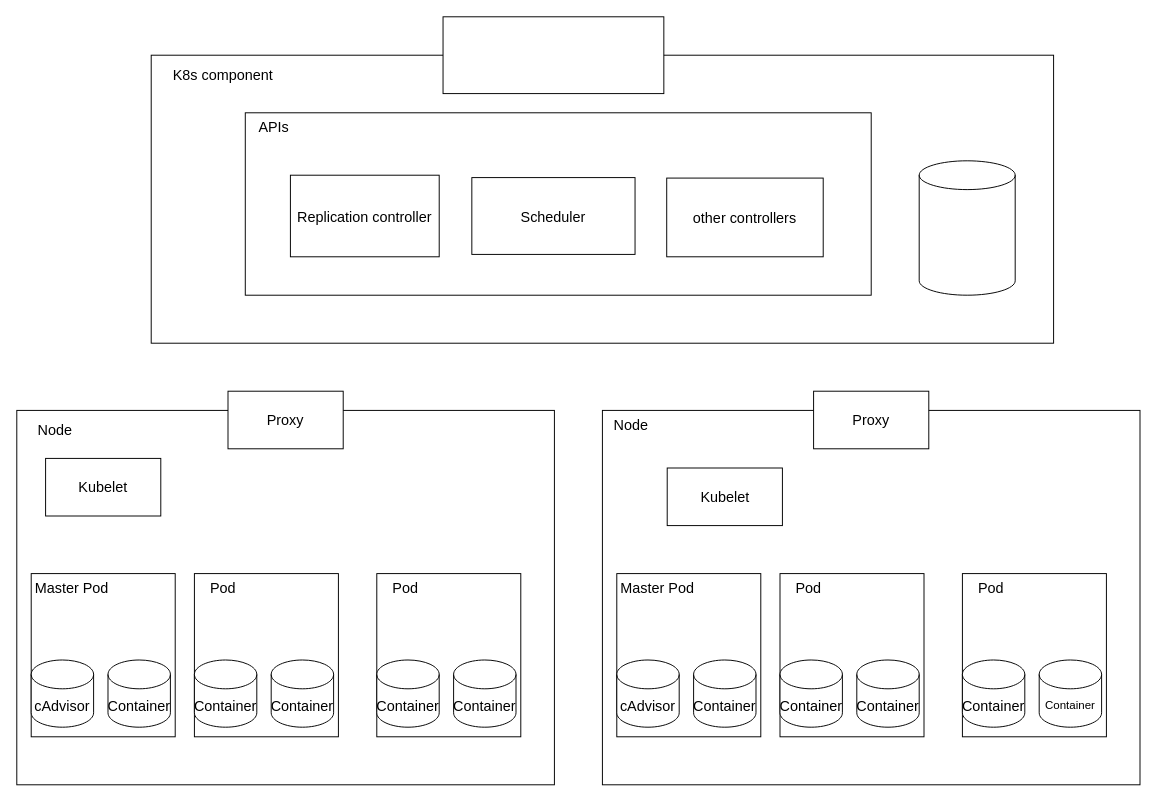
Image size: 1157x802. Some labels were removed from this diagram. Each missing label, with the centre of its shape:
"Authorization/Authentication" goes at point (553, 55).
"etcd" goes at point (966, 227).
